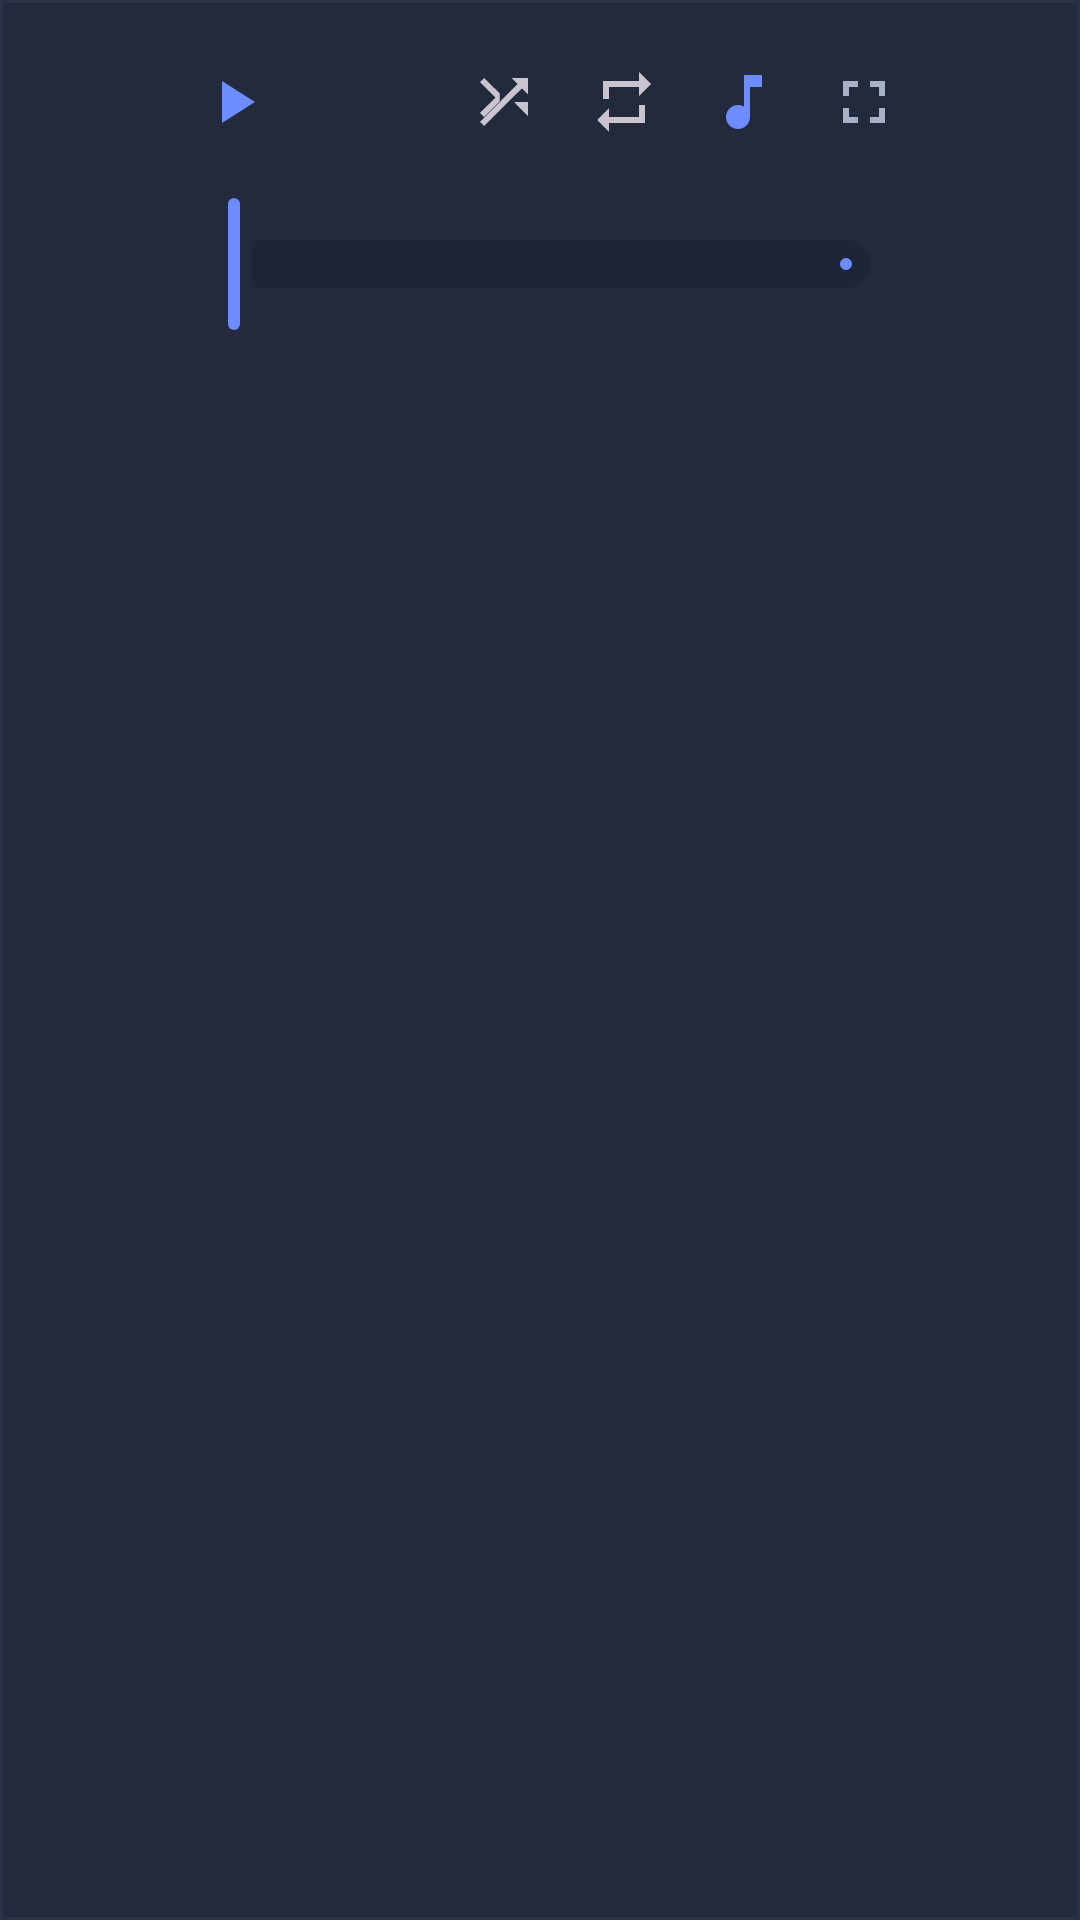

Icons on this 1080px x 1920px Android screen, each with its box as (x1, y1, x2, y2):
Shuffle: (480, 78, 528, 126)
Воспроизвести: (222, 81, 255, 123)
На весь экран: (843, 81, 885, 123)
Повтор: (597, 72, 651, 132)
